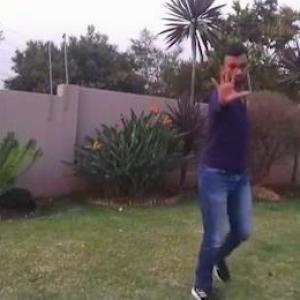follow_hand: (204, 60, 253, 108)
